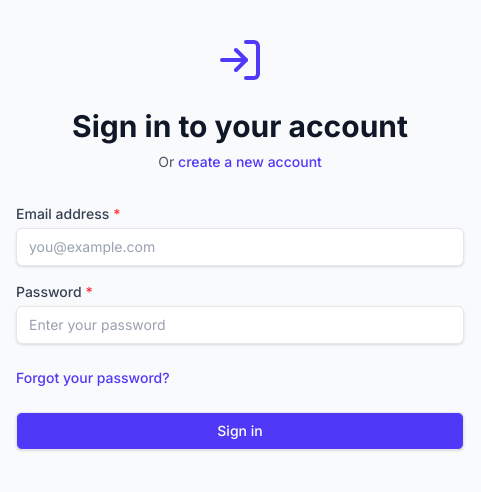
Scenario: LoginPage › Validation Tests › displays error for password shorter than 6 characters
Type "12345" into the password field labelled "Password*".
click(240, 325); type("12345")  # box [16,306,464,344]
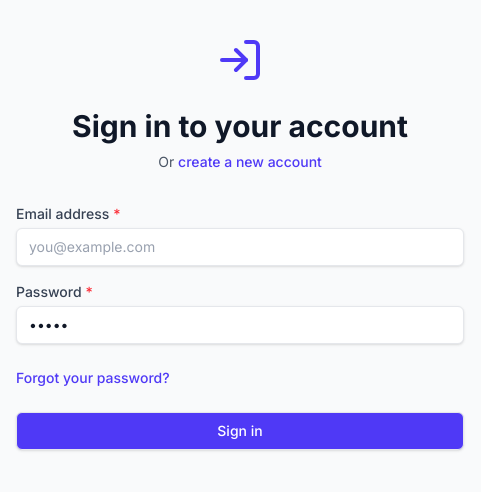
Click the button "Sign in".
click(240, 431)  # box [16,412,464,450]
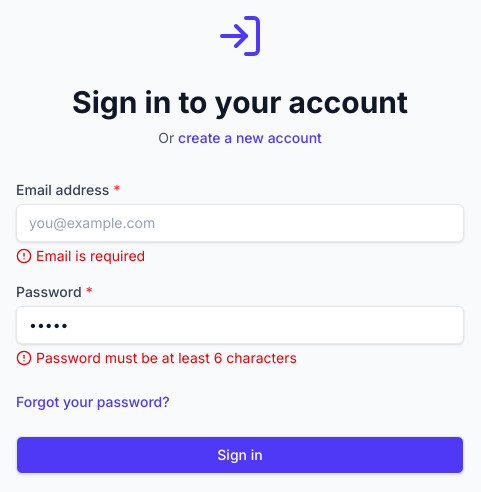
Check: the text "Password must be at least 6 characters" is shown, box [36,348,297,368]
